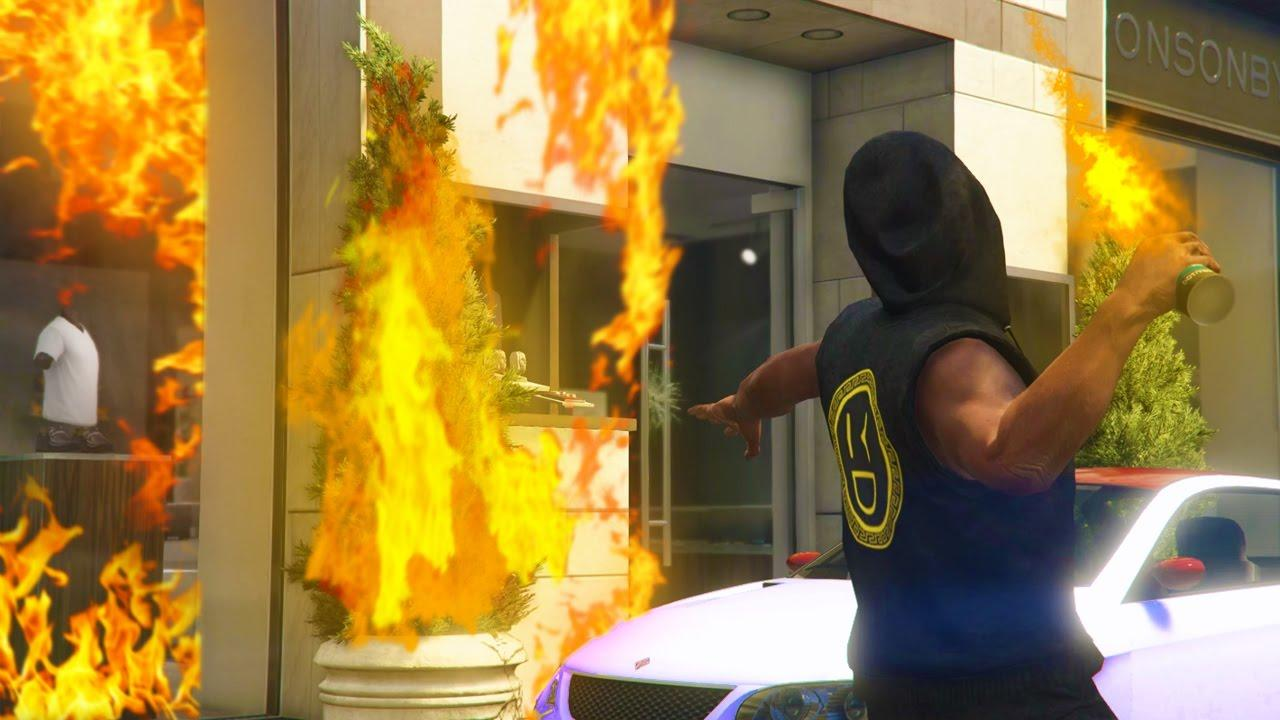Fire: (2, 2, 699, 720), (1034, 52, 1218, 269)
